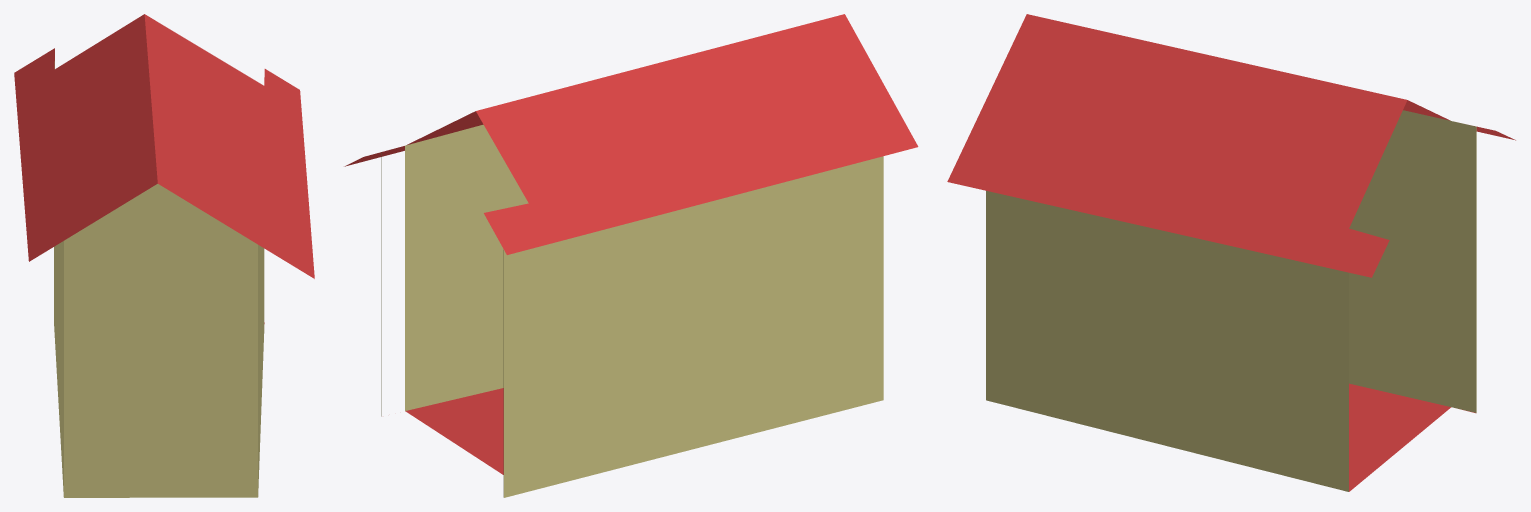
3 renders of one model, left to right at view 1: azimuth 30°, elevation 25°; view 2: azimuth 150°, elevation 25°; view 3: azimuth 270°, elevation 25°, orthographic. The views are drawn at different scales.
Bounding box in the file's own units: 11.15 × 12.75 × 8.49.
